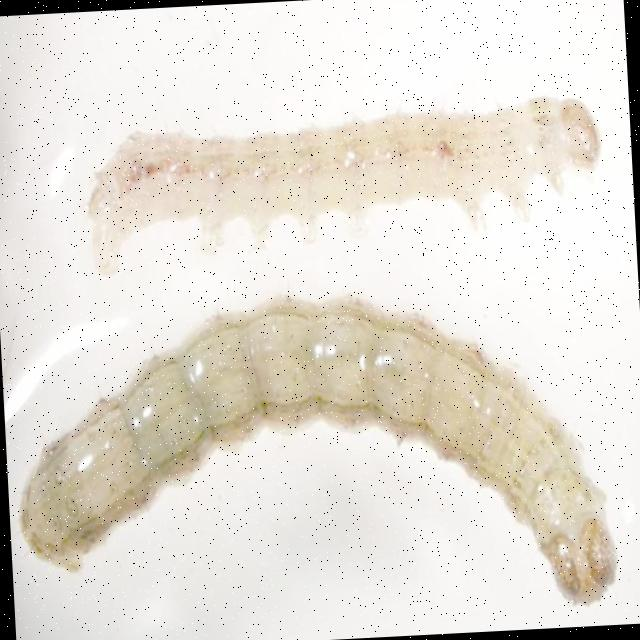worm: (8, 276, 621, 637), (81, 92, 607, 276)
